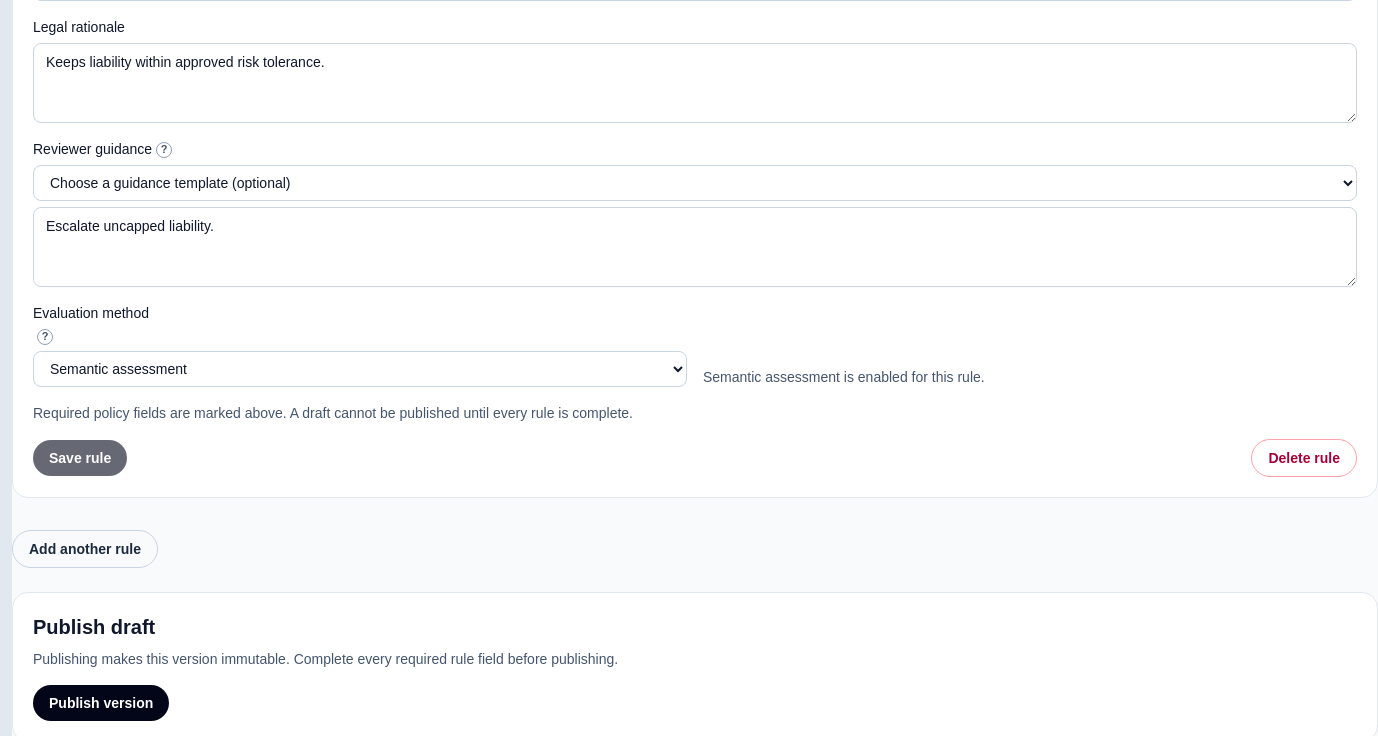
Test: PlaybookEditor › reveals the add-rule form only when requested after a rule exists
This screenshot has width=1378, height=736.
(page scrolled)
Check: the heading "Add rule" is not shown
Click the button "Add another rule" at (85, 549), box [12,530,158,568]
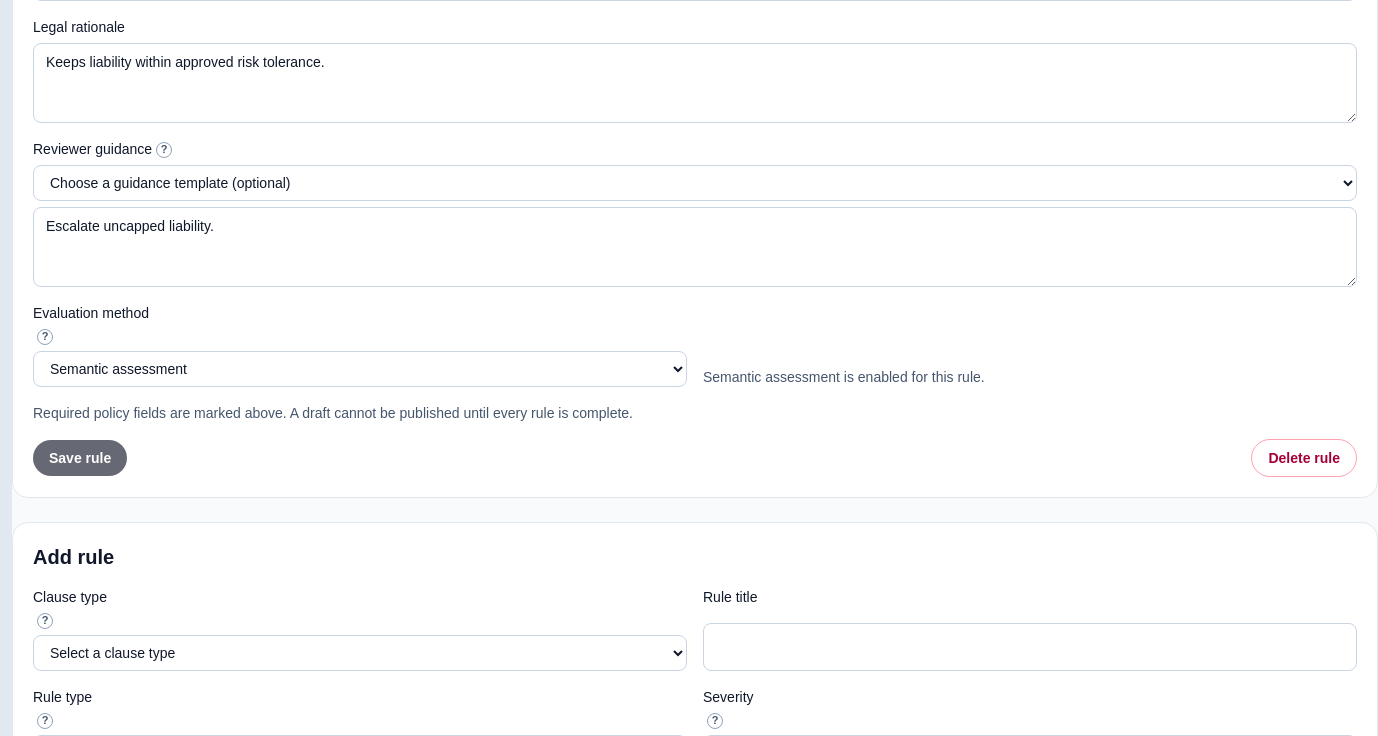
Check: the heading "Add rule" is shown, box [33,546,114,568]
